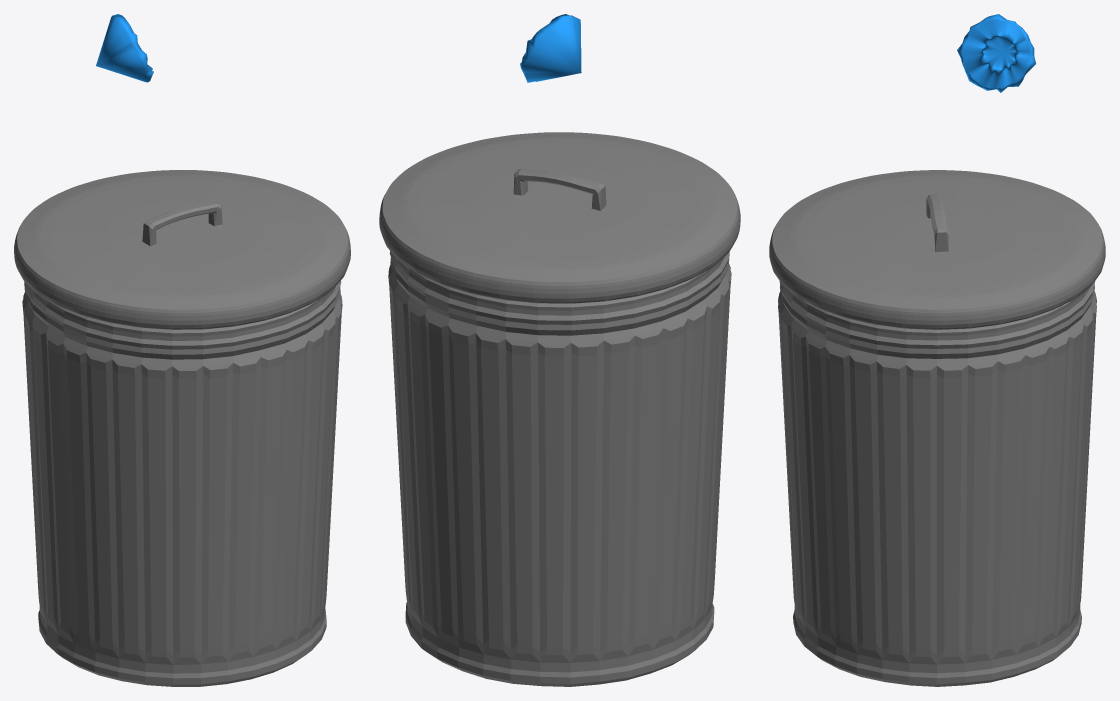
Rendered from trashcan.glb.
The picture shows the model from 3 angles, left to right: view 1: azimuth 30°, elevation 25°; view 2: azimuth 150°, elevation 25°; view 3: azimuth 270°, elevation 25°; orthographic projection. The views are drawn at different scales.
Parts seen in each view (by area): view 1: Cylinder.001, Cylinder.002, Cone.162; view 2: Cylinder.001, Cylinder.002, Cone.162; view 3: Cylinder.001, Cylinder.002, Cone.162.
Boxes of the visible parts, bbox=[...] form: Cylinder.001: bbox=[22, 281, 342, 686]; Cylinder.002: bbox=[14, 170, 350, 329]; Cone.162: bbox=[96, 14, 153, 82]; Cylinder.001: bbox=[388, 251, 731, 686]; Cylinder.002: bbox=[379, 132, 740, 303]; Cone.162: bbox=[520, 14, 581, 82]; Cylinder.001: bbox=[778, 281, 1096, 686]; Cylinder.002: bbox=[769, 170, 1105, 329]; Cone.162: bbox=[957, 14, 1035, 92].
Bounding box in the file's own units: 2.08 × 4.08 × 2.08.
